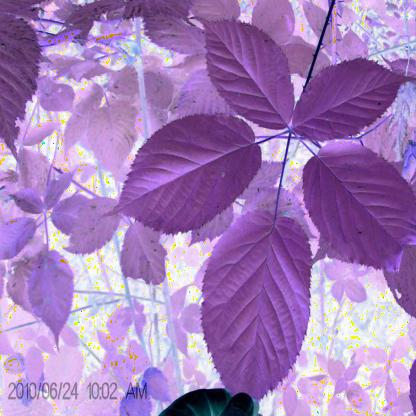raspberry leaf: (199, 209, 311, 405), (114, 108, 266, 238), (296, 135, 415, 269), (189, 14, 295, 134), (287, 47, 415, 141)
